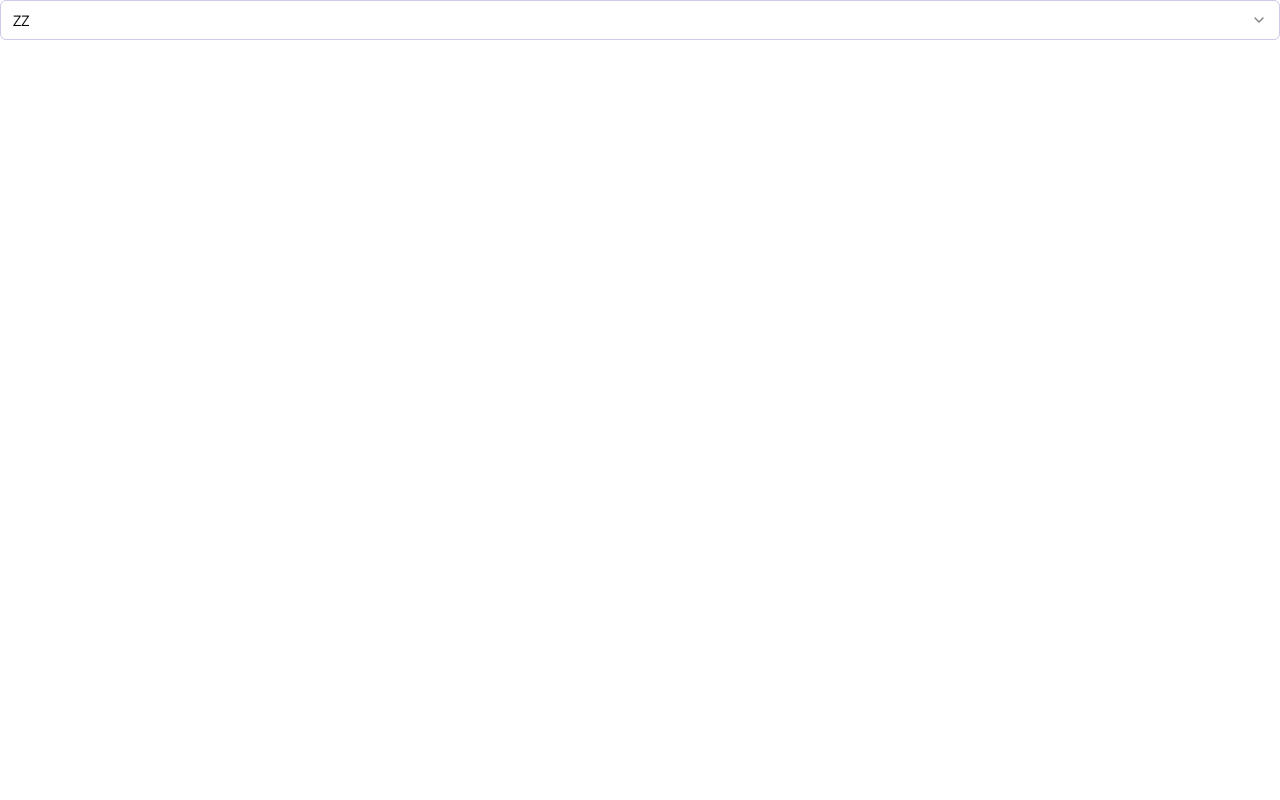
CountrySelect › keeps a saved code that is not in the list selectable
Click the dropdown named "Country". click: [21, 20]
box: [0, 0, 1279, 40]
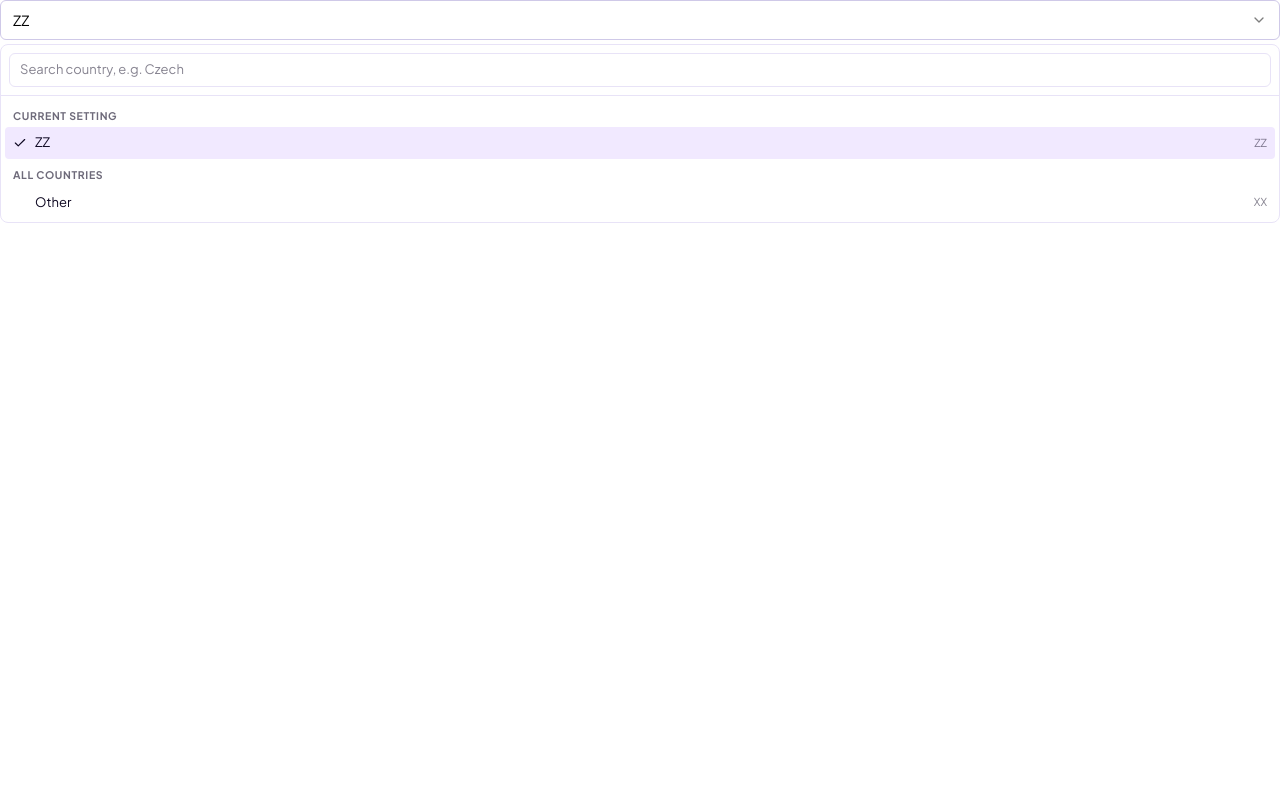
Result: the text "Current setting" is shown at [13, 108, 117, 122]
